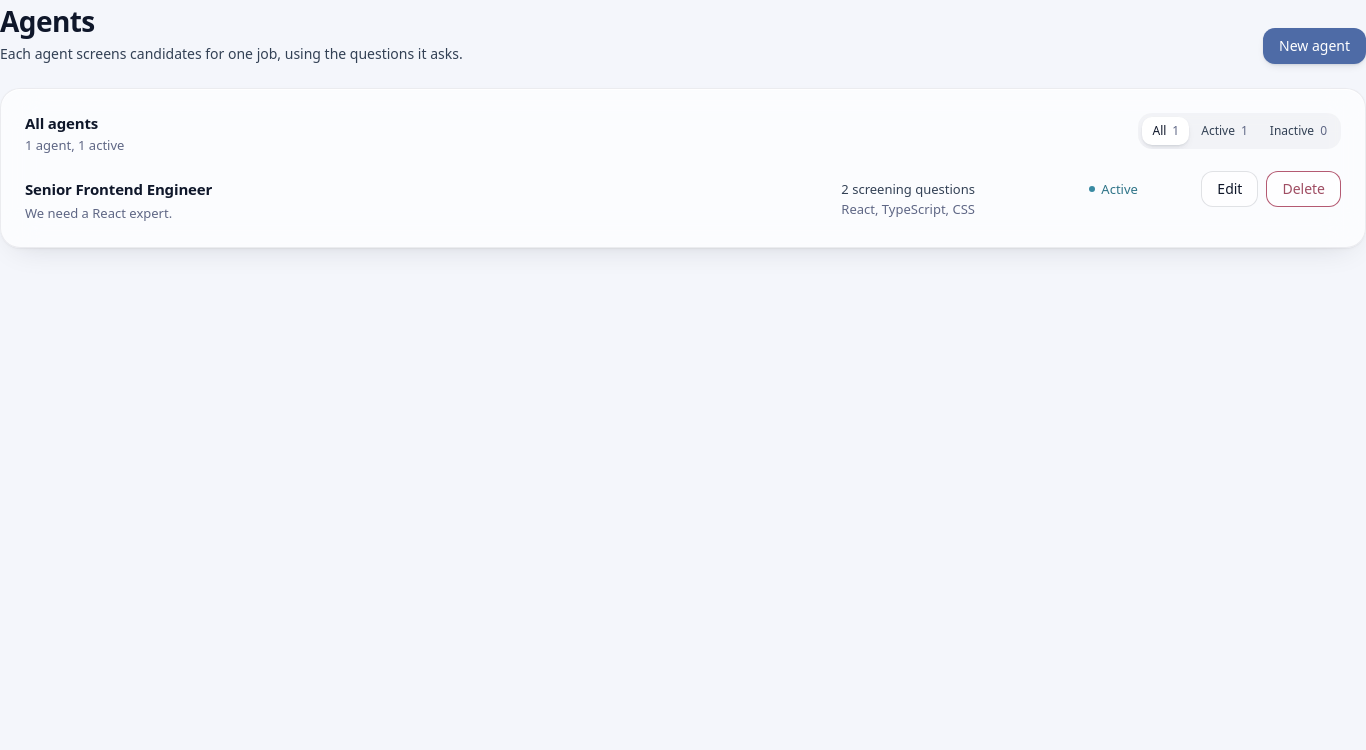
RolesPage › names the form in agent terms: "New agent" / "Create agent", and "Edit agent"
Click the button "New agent". click: (1314, 46)
box: [1263, 28, 1365, 64]
(page scrolled)
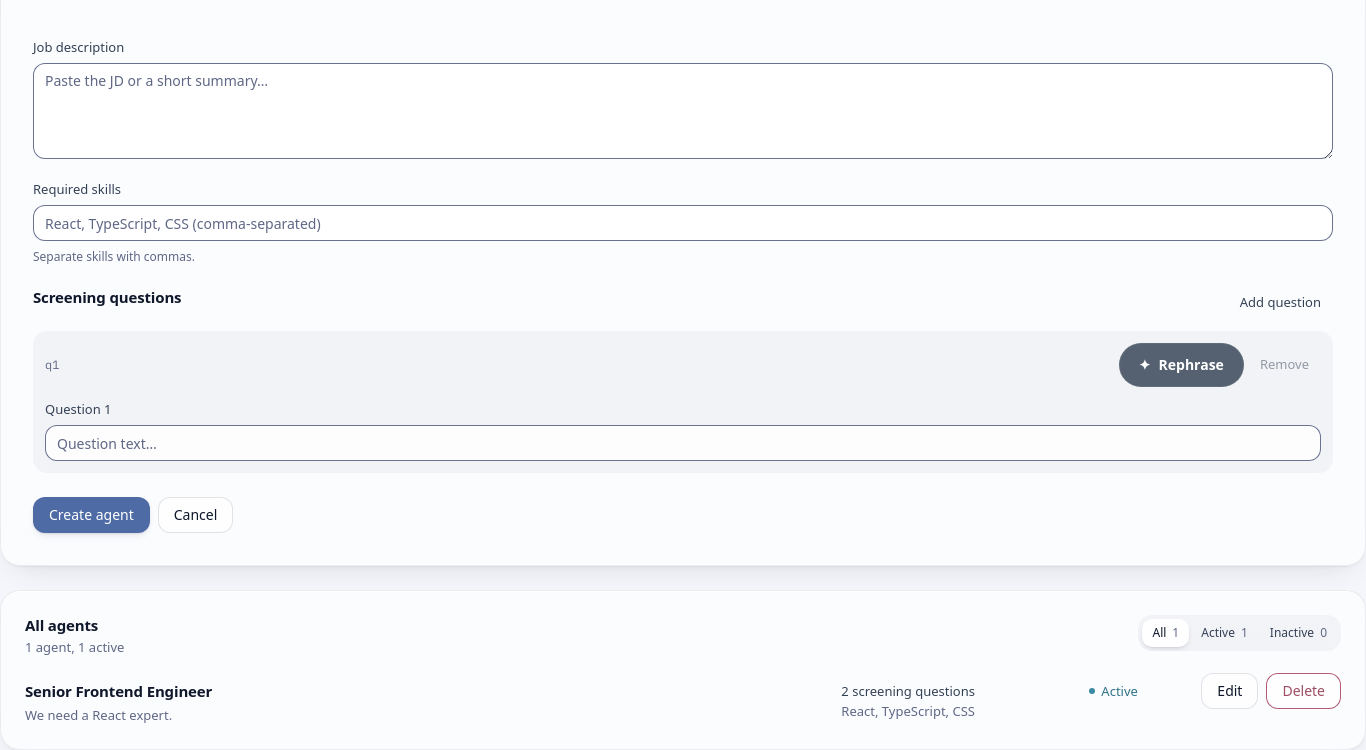
Expected: the button "Create agent" is shown, [33, 497, 150, 533]
Click the button "Cancel". click: (196, 515)
box: [158, 497, 233, 533]
(page scrolled)
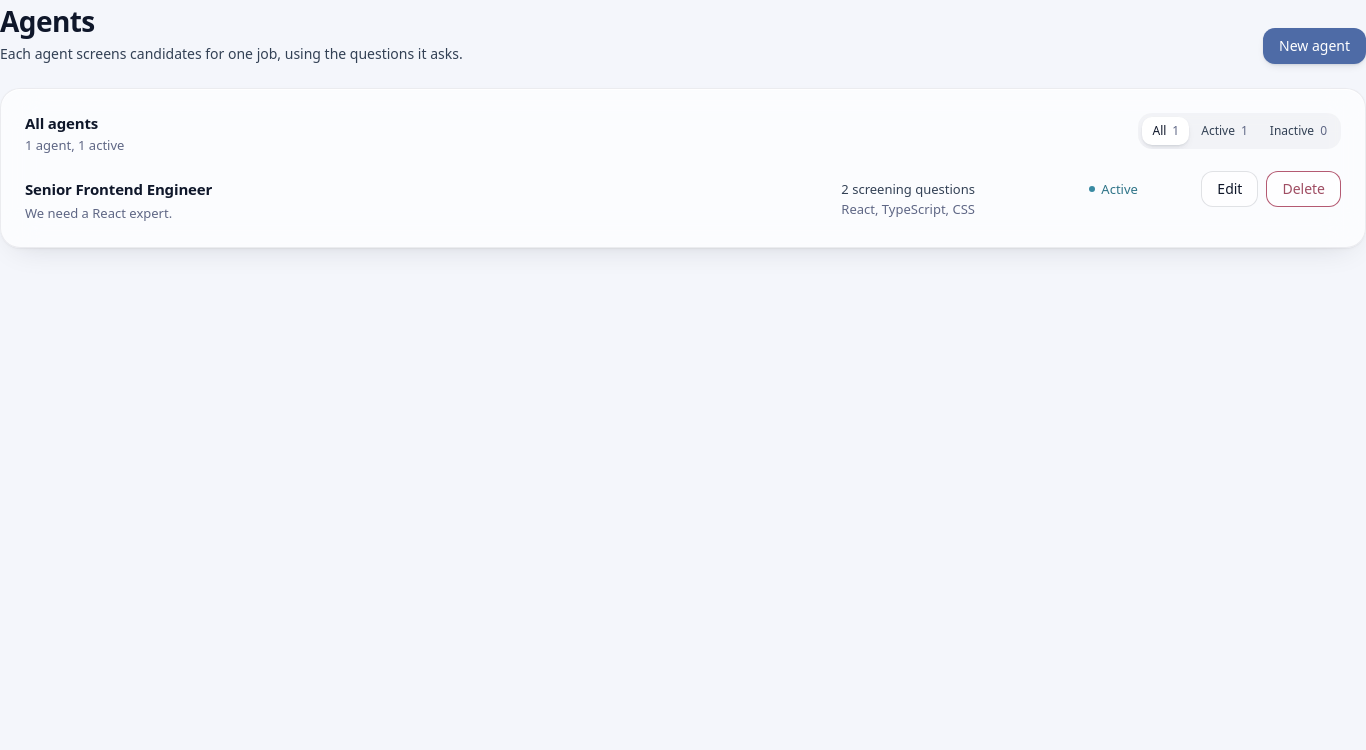
Click the button "Edit". click: (1230, 189)
box: [1201, 171, 1258, 207]
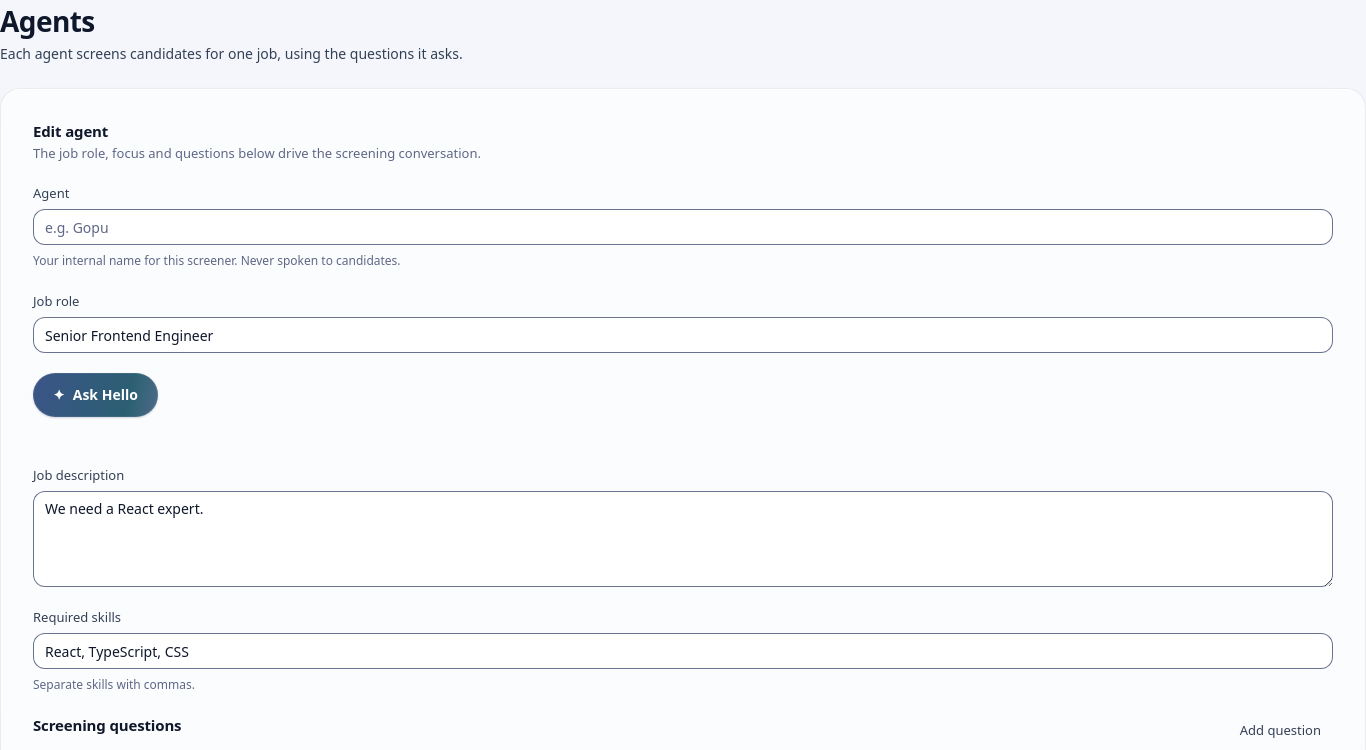
Expected: the heading "Edit agent" is shown, [33, 121, 108, 141]
